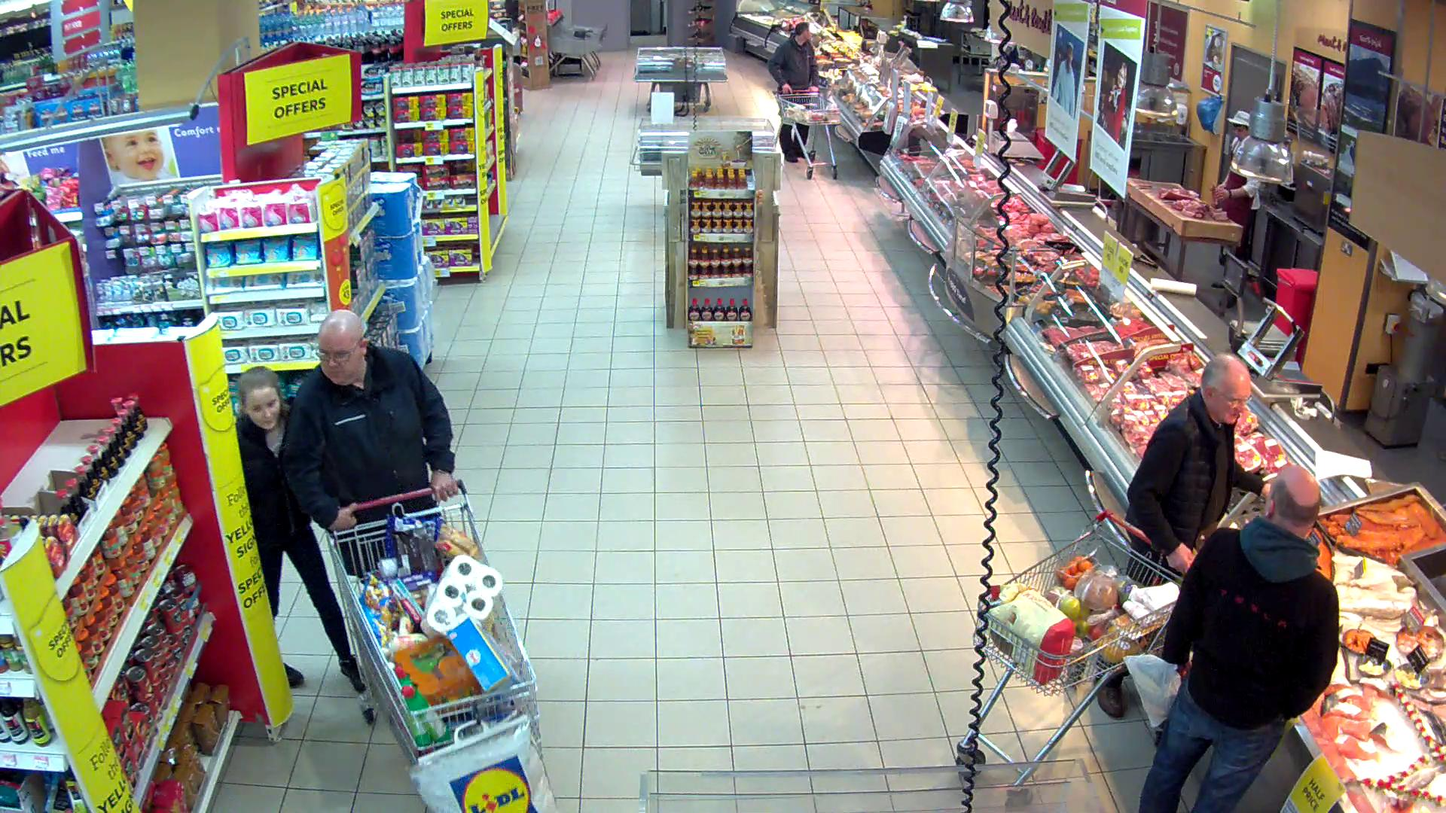filled-shopping-bags: (409, 716, 556, 813)
filled-trolly: (956, 508, 1191, 812), (324, 474, 541, 744), (771, 88, 842, 179)
person: (1098, 352, 1272, 720), (281, 312, 456, 524), (767, 22, 819, 162)
person-with-basket-trolly-and-shopping-bag: (281, 311, 555, 812)
person-with-filled-basket-trolly: (956, 352, 1270, 813), (767, 22, 842, 178)
